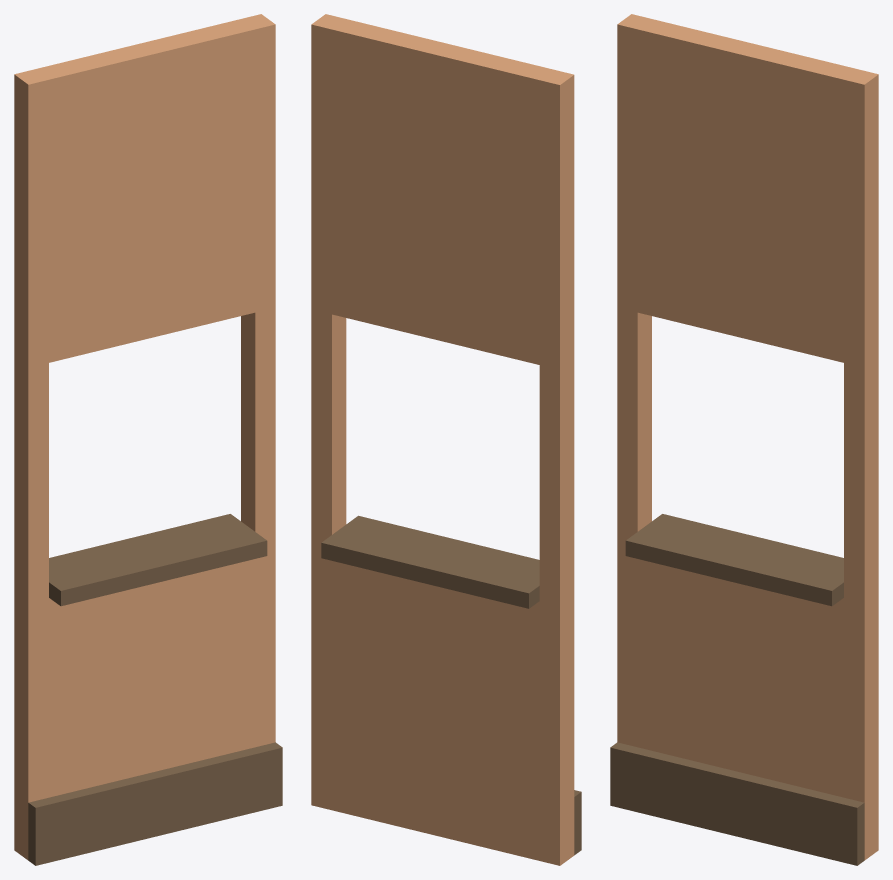
Rendered from Mesh_WallBaseboard_D2.fbx.
The picture shows the model from 3 angles, left to right: view 1: azimuth 30°, elevation 25°; view 2: azimuth 150°, elevation 25°; view 3: azimuth 330°, elevation 25°; orthographic projection.
Visible parts, largest first — view 1: Mesh_WallBaseboard_D2; view 2: Mesh_WallBaseboard_D2; view 3: Mesh_WallBaseboard_D2.
Boxes of the visible parts, bbox=[...] form: Mesh_WallBaseboard_D2: bbox=[14, 14, 282, 865]; Mesh_WallBaseboard_D2: bbox=[311, 14, 581, 865]; Mesh_WallBaseboard_D2: bbox=[610, 14, 878, 865].
Bounding box in the file's own units: 1 × 3 × 0.2574.
